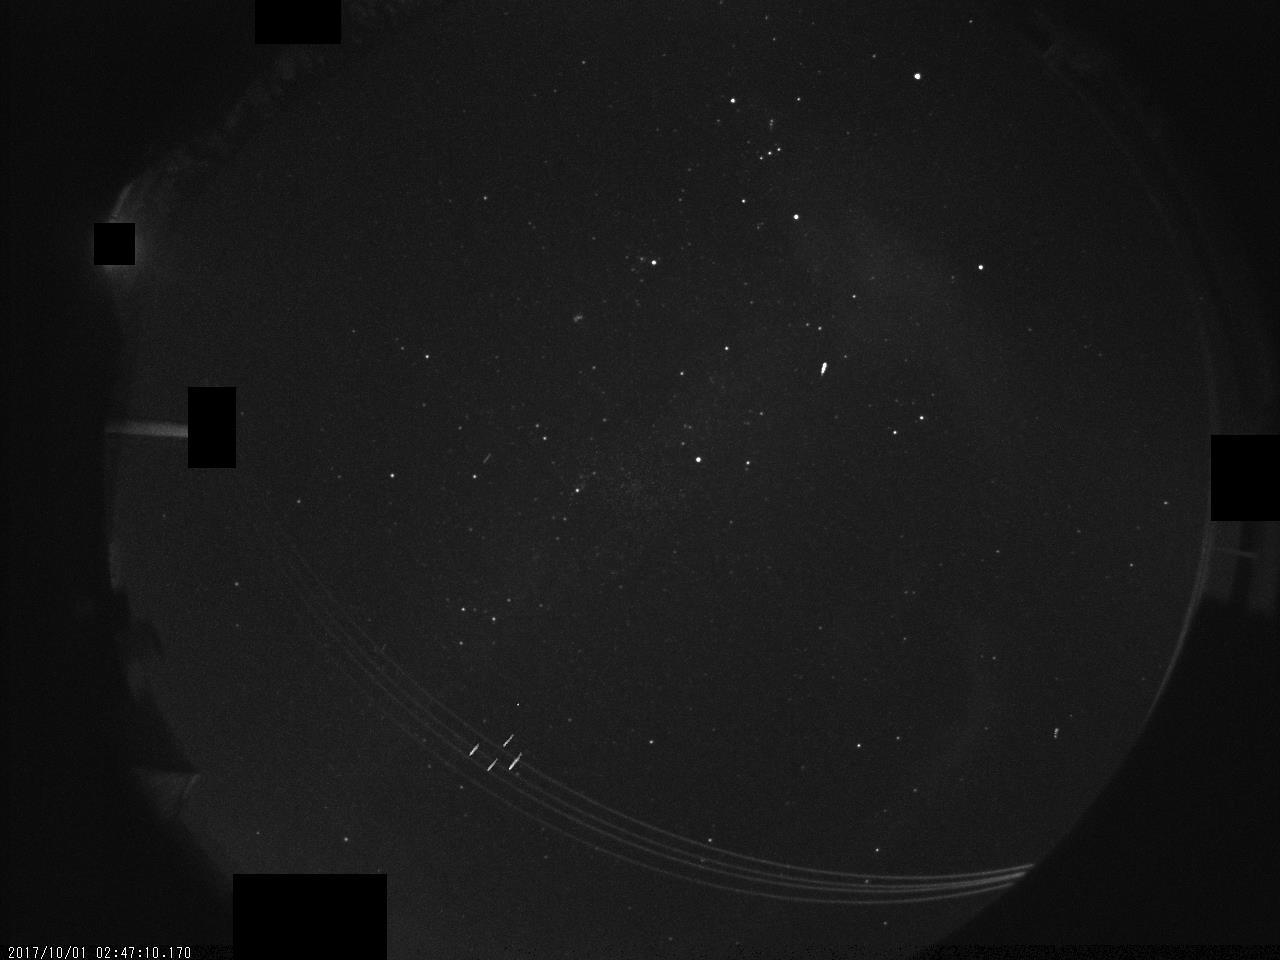TLE: (450, 697, 545, 786)
